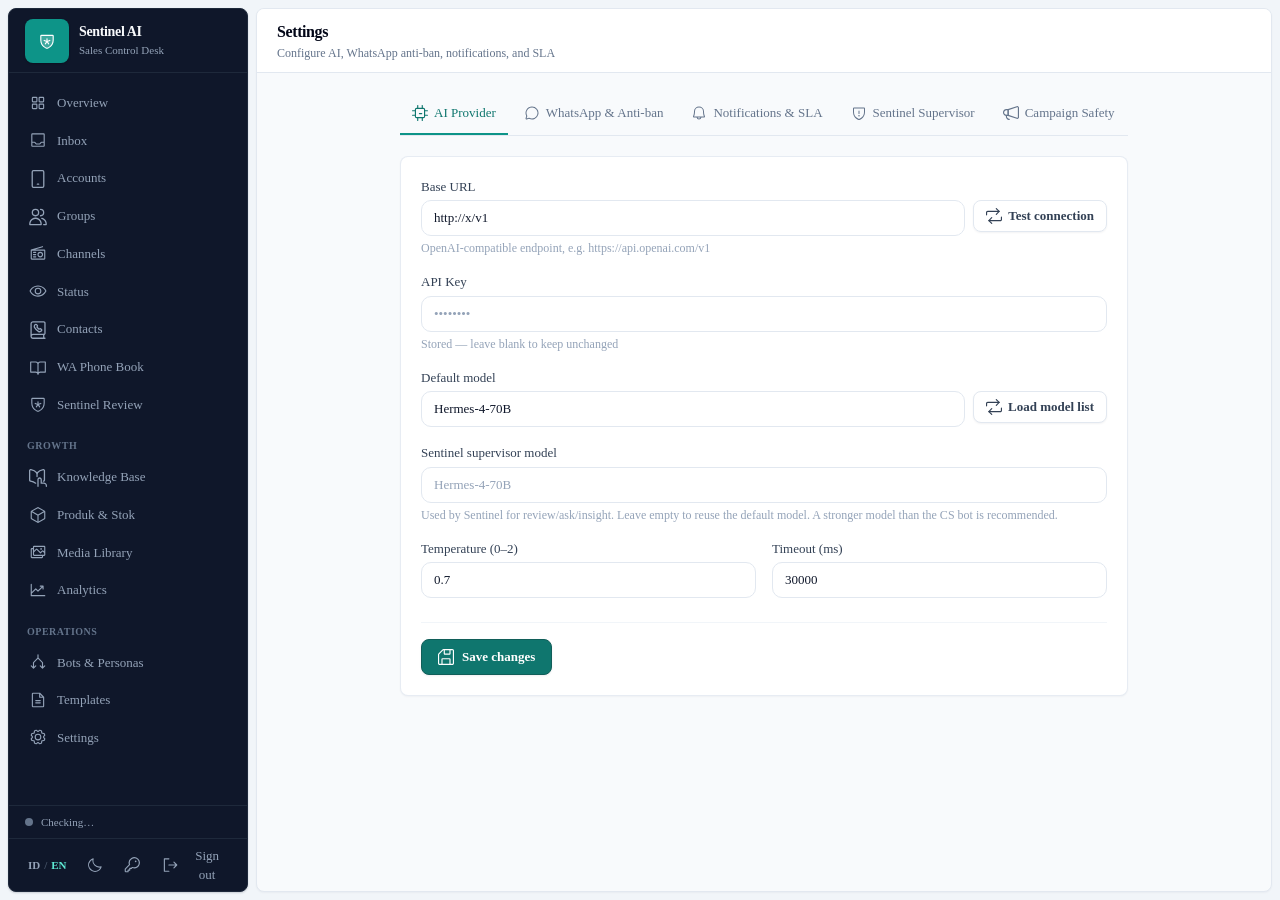
Test: AiSettingsPage › auto-loads the model list and shows it in the model dropdown
Step 1. Clear the field showing "Hermes-4-70B" → [693, 409], box [421,391,965,427]
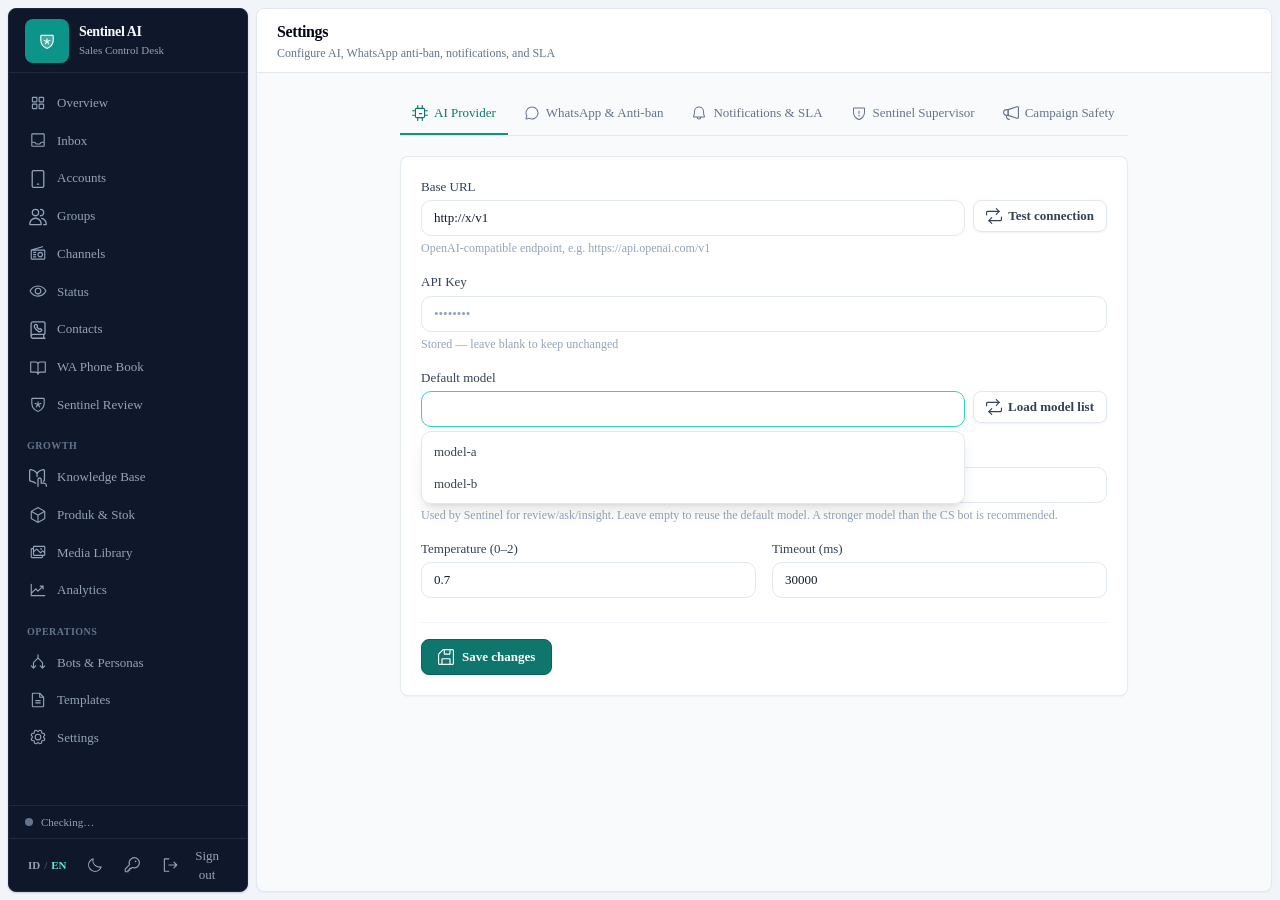
Check: the button "model-a" is shown, box [422,436,964,468]
Check: the button "model-b" is shown, box [422,468,964,499]
